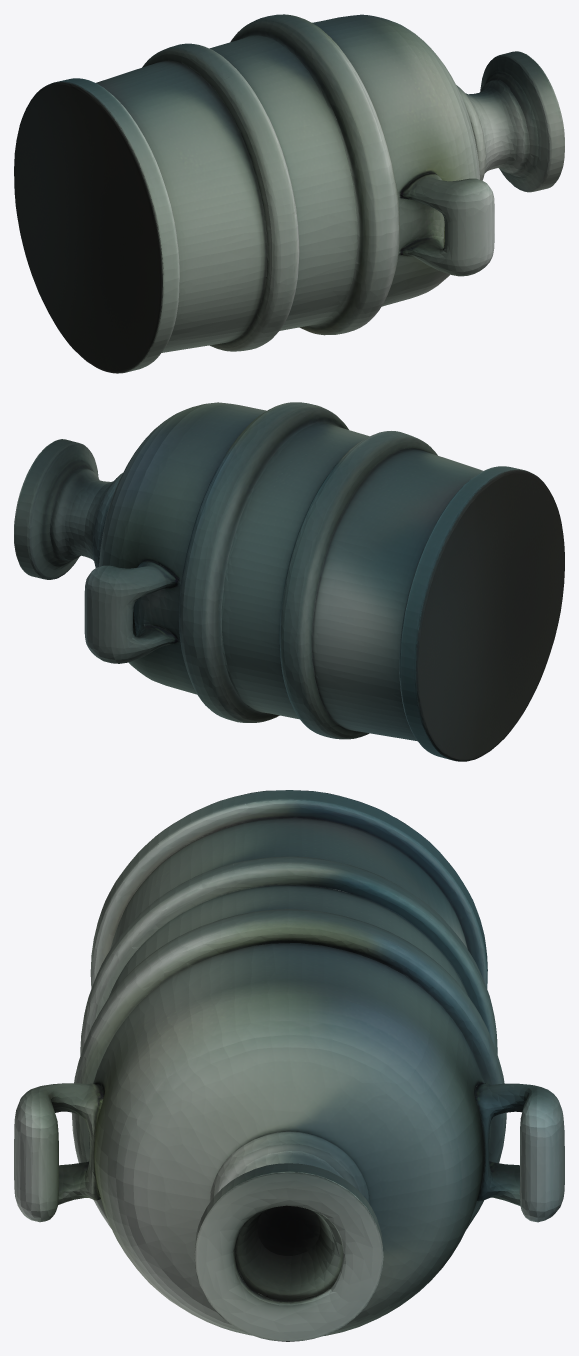
The model's file is milk_churn_comfyui.glb.
3 views of the same model, one above another, from view 1: azimuth 30°, elevation 25°; view 2: azimuth 150°, elevation 25°; view 3: azimuth 270°, elevation 25° (orthographic). The views are drawn at different scales.
Bounding box in the file's own units: 0.9932 × 0.6349 × 0.8027.
Materials: 1 (1 with a texture image).
